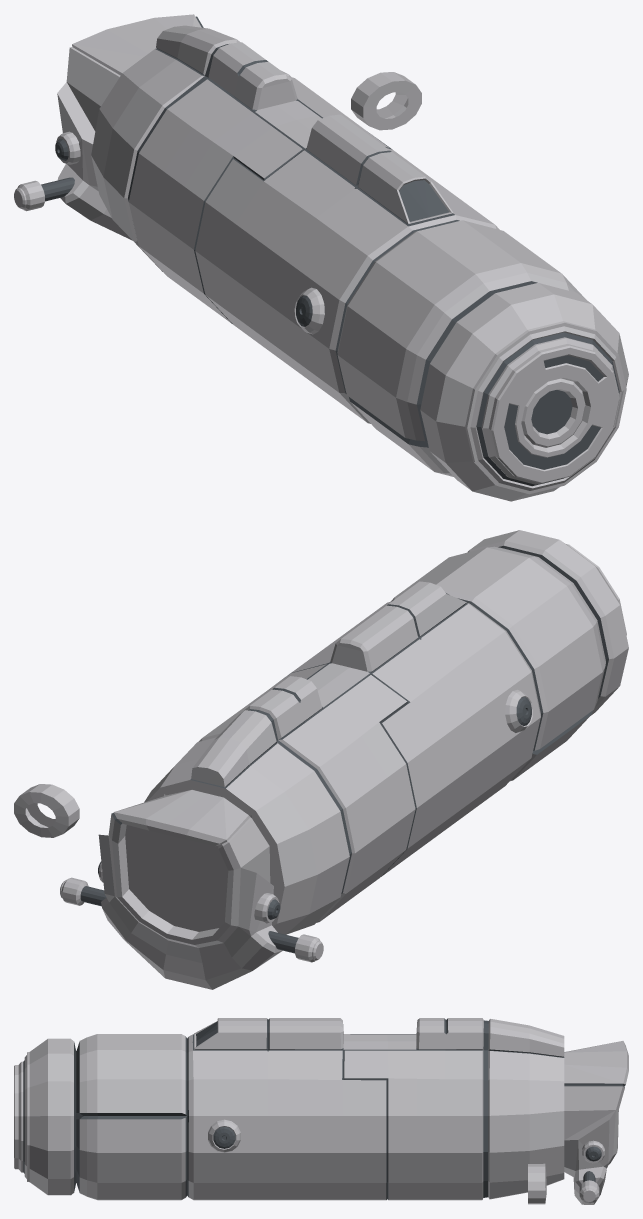
Rendered from Personal_Vehicle_04_Base_Body.fbx.
The picture shows the model from 3 angles, top to bottom: view 1: azimuth 30°, elevation 25°; view 2: azimuth 150°, elevation 25°; view 3: azimuth 270°, elevation 25°; orthographic projection. The views are drawn at different scales.
Parts seen in each view (by area): view 1: Personal_Vehicle_04_Base_Body; view 2: Personal_Vehicle_04_Base_Body; view 3: Personal_Vehicle_04_Base_Body.
Boxes of the visible parts, x1,y1,x2,y2 form: Personal_Vehicle_04_Base_Body: [14, 14, 628, 501]; Personal_Vehicle_04_Base_Body: [14, 530, 628, 989]; Personal_Vehicle_04_Base_Body: [14, 1018, 628, 1204].
Bounding box in the file's own units: 130 × 83.58 × 266.
2 materials, 2 textured.
